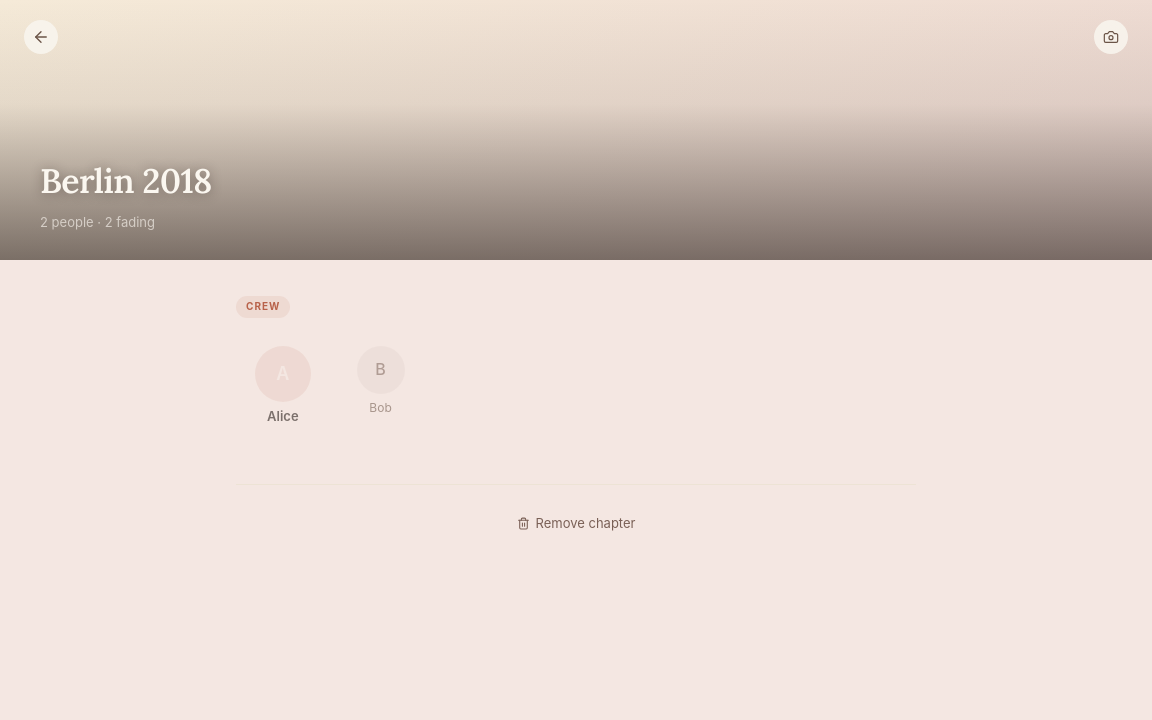
Test: ChapterDetailScreen — chapter removal (MAV-184) › closes the dialog without patching state when Escape is pressed
The width and height of the screenshot is (1152, 720).
Click the button "Remove chapter" at (576, 523), box [504, 509, 648, 537]
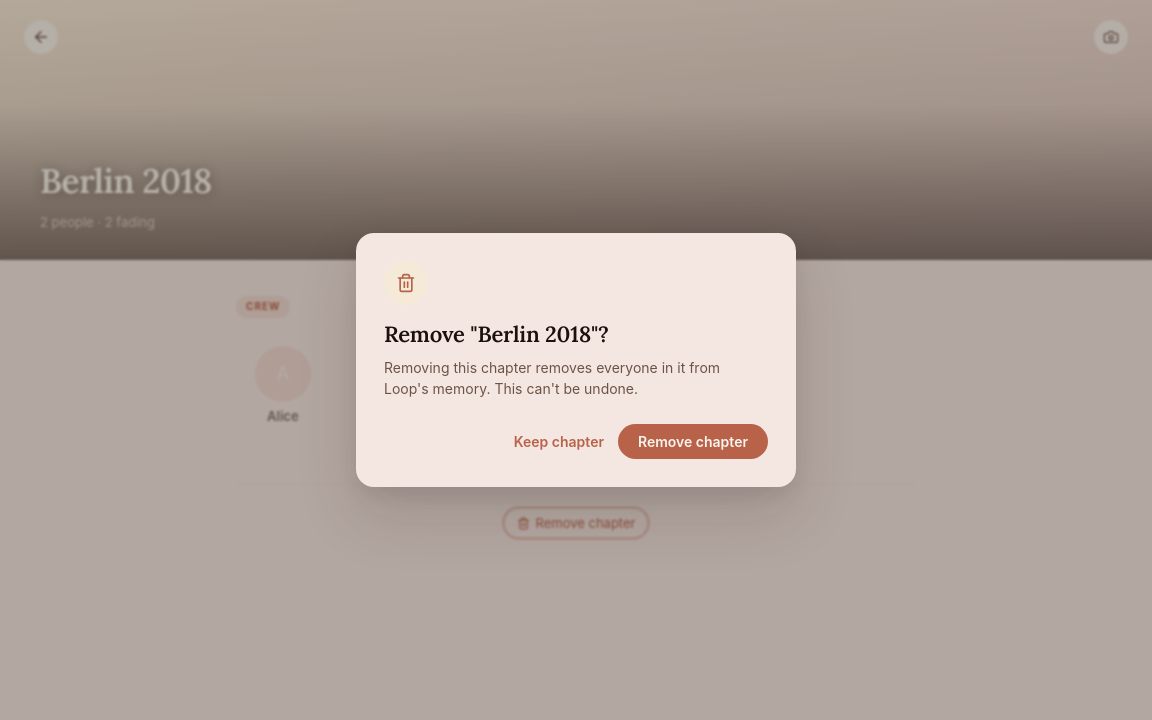
Press Escape
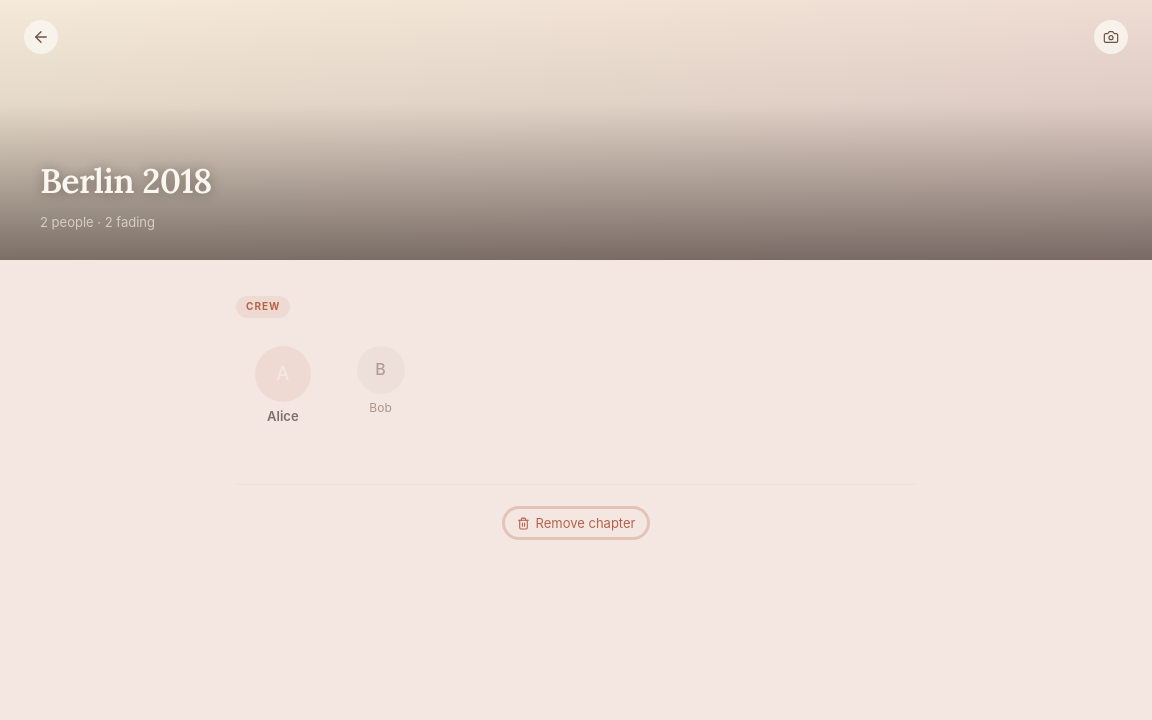
Now the dialog is gone
